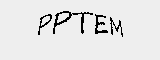Е: (93, 13, 110, 34)
М: (108, 17, 124, 39)
Р: (51, 8, 71, 37), (36, 9, 51, 37)
Т: (73, 7, 92, 35)
